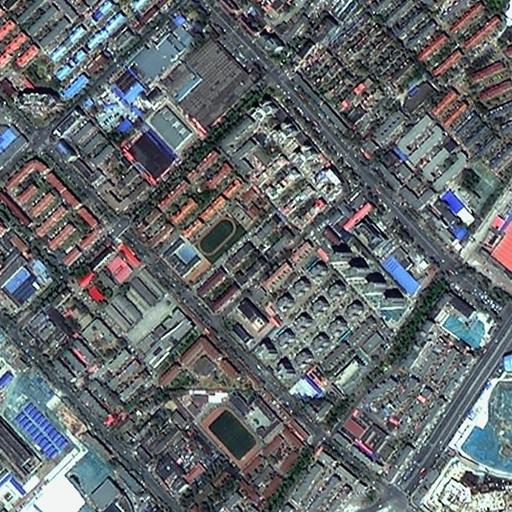school: (160, 185, 268, 278), (162, 387, 284, 467)
